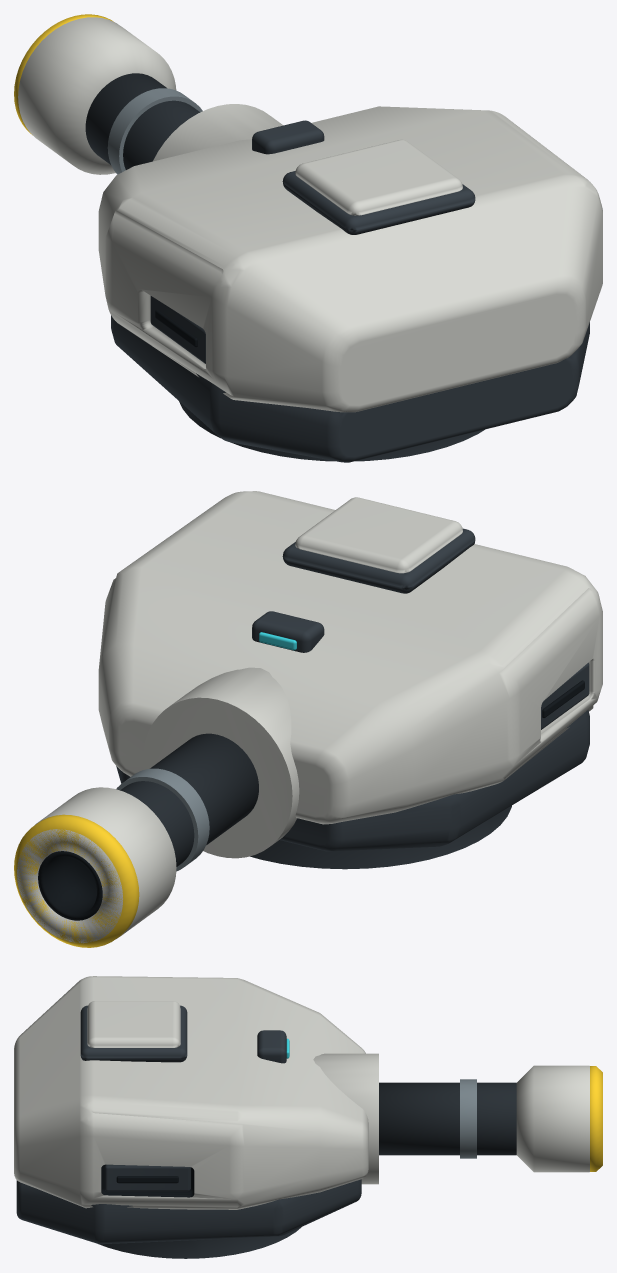
The model's file is cannon.glb.
3 views of the same model, one above another, from view 1: azimuth 30°, elevation 25°; view 2: azimuth 150°, elevation 25°; view 3: azimuth 270°, elevation 25° (orthographic). The views are drawn at different scales.
Parts seen in each view (by area): view 1: Soft_134 ivory armor, Soft_134 mechanism, Soft_134 ivory armor.001, Soft_134 mechanism.001, Soft_134 steel, Soft_134 yellow; view 2: Soft_134 ivory armor, Soft_134 ivory armor.001, Soft_134 mechanism, Soft_134 mechanism.001, Soft_134 yellow, Soft_134 recess.001, Soft_134 steel; view 3: Soft_134 ivory armor, Soft_134 mechanism, Soft_134 ivory armor.001, Soft_134 mechanism.001, Soft_134 steel, Soft_134 yellow, Soft_134 recess.
Part boxes in pixels (x1,y1,x2,y2): Soft_134 ivory armor: (98,106,602,412); Soft_134 mechanism: (111,120,589,462); Soft_134 ivory armor.001: (18,17,283,174); Soft_134 mechanism.001: (85,73,199,169); Soft_134 steel: (107,88,202,174); Soft_134 yellow: (14,14,113,135); Soft_134 ivory armor: (98,491,602,824); Soft_134 ivory armor.001: (17,667,299,943); Soft_134 mechanism: (116,528,589,869); Soft_134 mechanism.001: (120,733,258,866); Soft_134 yellow: (14,814,139,947); Soft_134 recess.001: (38,851,102,920); Soft_134 steel: (116,768,209,871); Soft_134 ivory armor: (14,976,368,1209); Soft_134 mechanism: (16,1005,361,1258); Soft_134 ivory armor.001: (313,1053,589,1184); Soft_134 mechanism.001: (379,1082,516,1155); Soft_134 steel: (460,1079,476,1158); Soft_134 yellow: (590,1066,602,1171); Soft_134 recess: (116,1176,178,1183).
Bounding box in the file's own units: 1.04 × 0.594 × 1.71.
